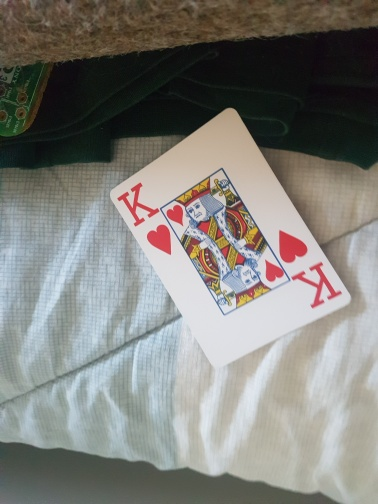king: (107, 107, 350, 364)
